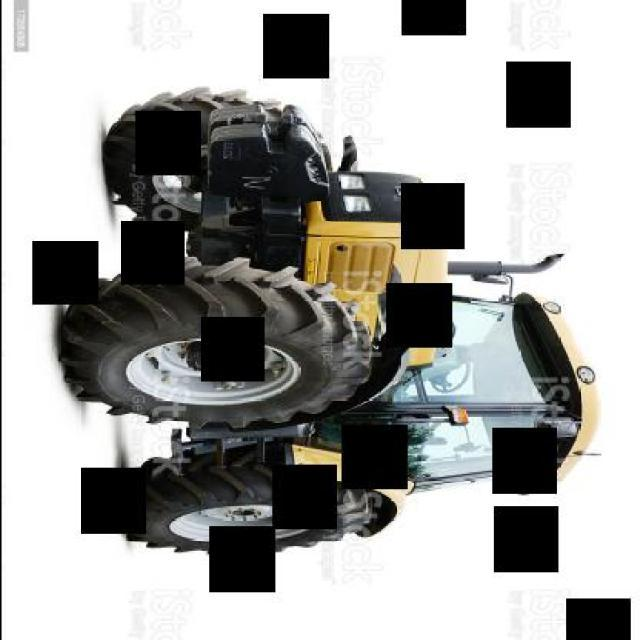Tratores - v5 YOLO V8L 2024-11-13: (1, 88, 617, 552)
